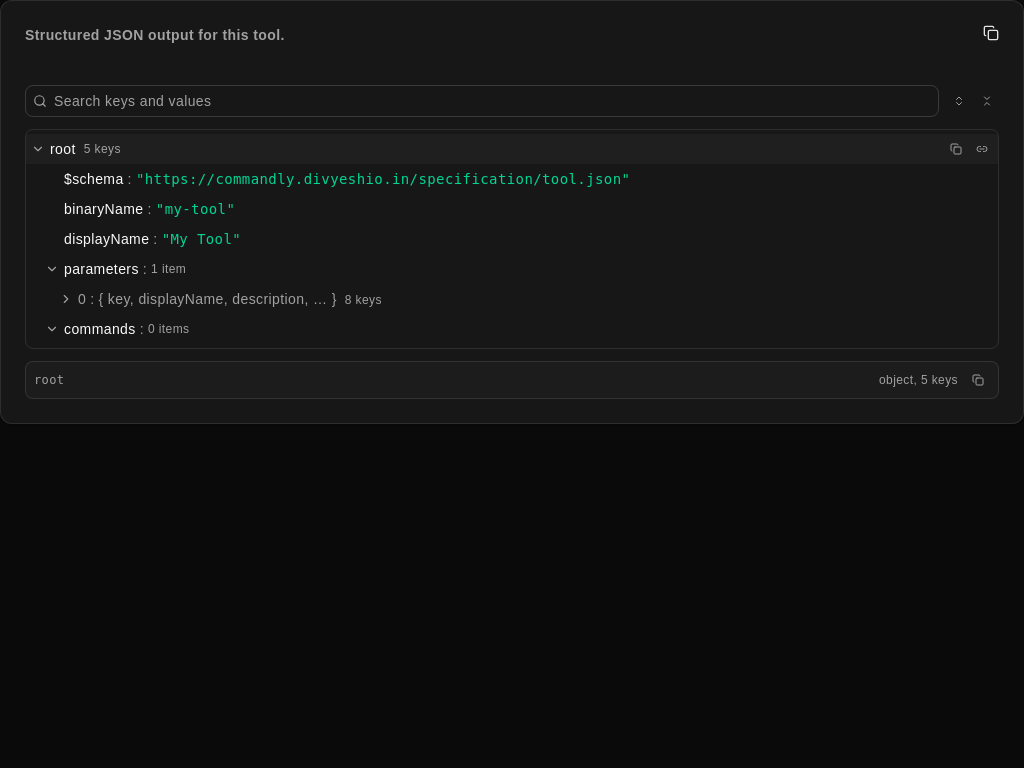
Test: JsonOutput › reveals and highlights matches while searching
This screenshot has width=1024, height=768.
Type "help" into the search field named "Search JSON".
click(482, 101); type("help")  # box [25,85,939,117]
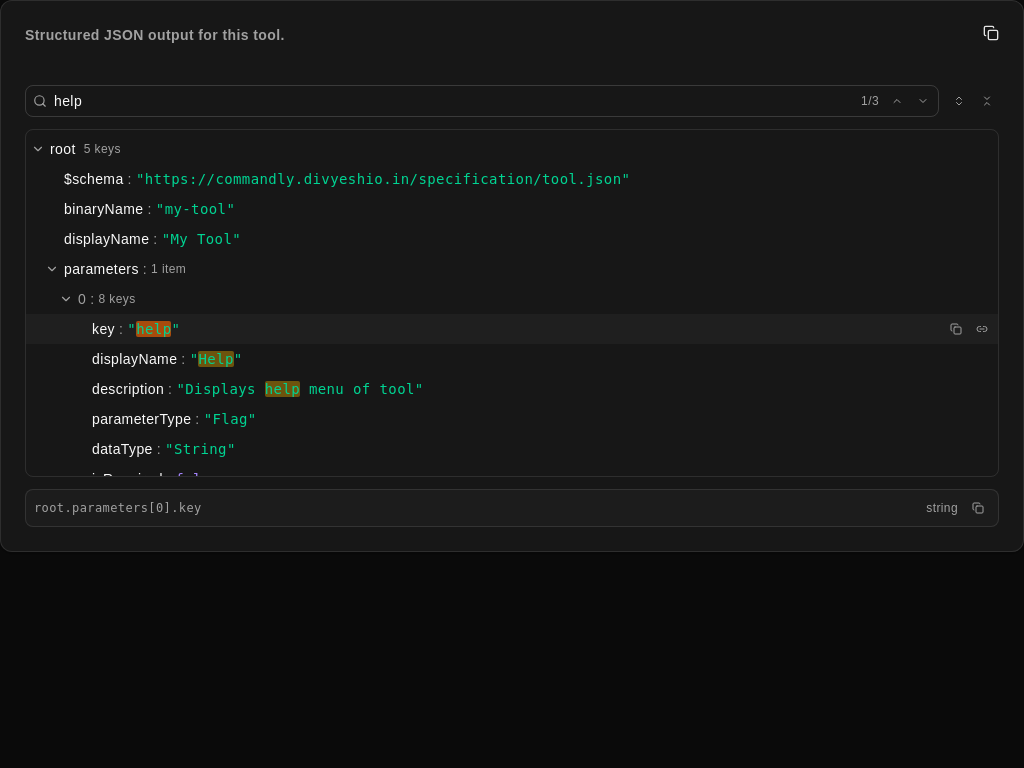
Now the list item with aria-label "key: help" is shown, box [26,314,998,344]
Now the text "1/3" is shown, box [861,94,879,108]
Now the 1st text "help" is shown, box [136,321,171,337]
